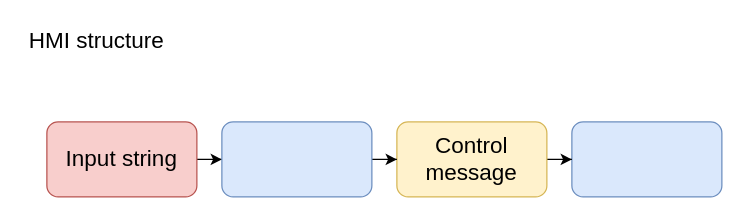
Image size: 744x219. Some labels were removed from this diagram. Here are the shapes that lost their labels. From the top down, the centre of each, then its label:
point (296, 159): Parse input
point (646, 159): Publish mesage
